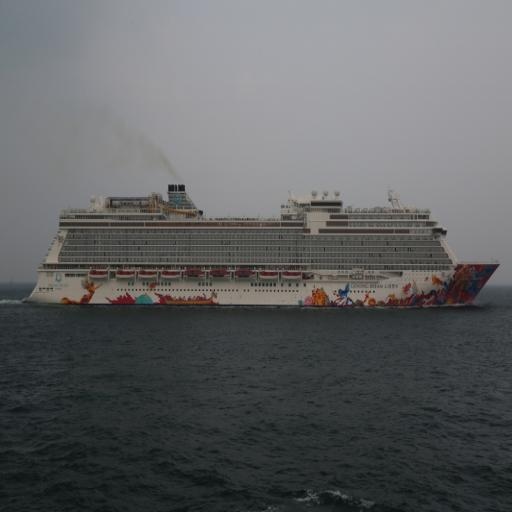cruises: (22, 175, 509, 323)
